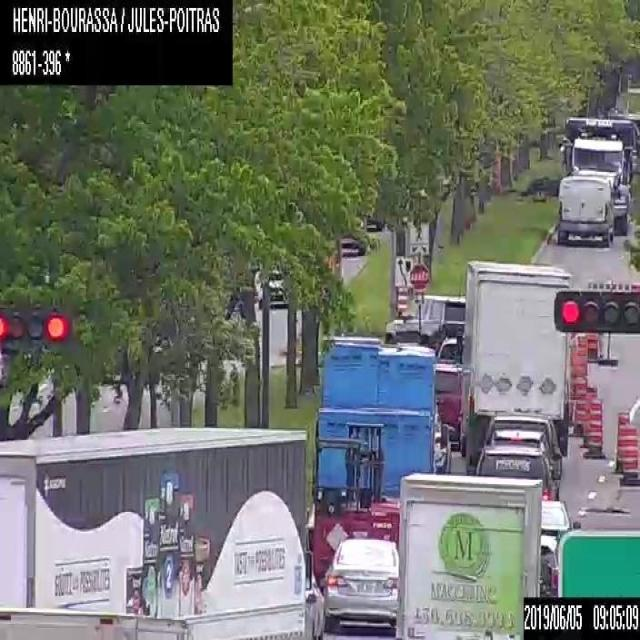construction: (583, 398, 606, 457), (622, 420, 639, 484), (613, 412, 631, 472), (572, 377, 589, 438), (583, 385, 598, 446), (574, 335, 587, 378), (585, 331, 599, 362)
vehicle: (0, 428, 312, 639), (396, 470, 542, 639), (457, 260, 571, 467), (314, 336, 432, 502), (301, 423, 401, 578), (560, 116, 632, 235), (322, 538, 399, 634), (0, 606, 187, 638), (384, 290, 466, 360), (555, 168, 617, 248), (473, 446, 560, 502), (486, 408, 562, 466), (486, 427, 560, 477), (433, 360, 463, 450), (539, 497, 580, 548), (255, 269, 292, 309), (432, 405, 452, 474), (338, 226, 366, 254), (322, 630, 394, 638), (362, 213, 384, 229)
